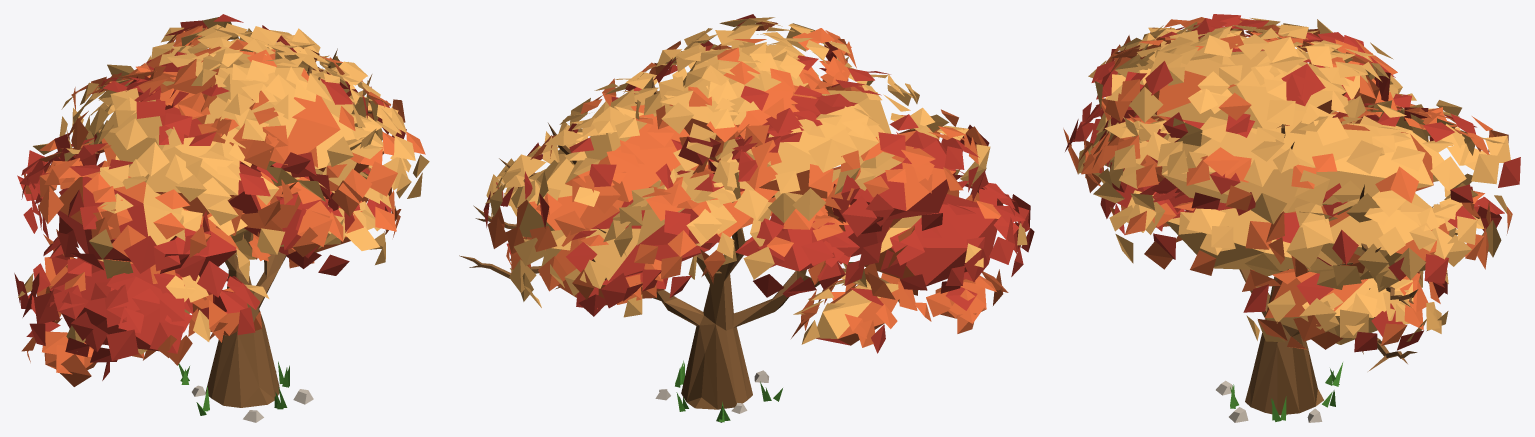
Rendered from cherry_3_autumn.glb.
The picture shows the model from 3 angles, left to right: view 1: azimuth 30°, elevation 25°; view 2: azimuth 150°, elevation 25°; view 3: azimuth 270°, elevation 25°; orthographic projection. The views are drawn at different scales.
Parts seen in each view (by area): view 1: cherry_3_autumn; view 2: cherry_3_autumn; view 3: cherry_3_autumn.
Boxes of the visible parts, <box> form: cherry_3_autumn: <box>14,14,429,422</box>; cherry_3_autumn: <box>459,14,1034,422</box>; cherry_3_autumn: <box>1063,14,1520,422</box>.
Bounding box in the file's own units: 9.98 × 7.45 × 8.51.
